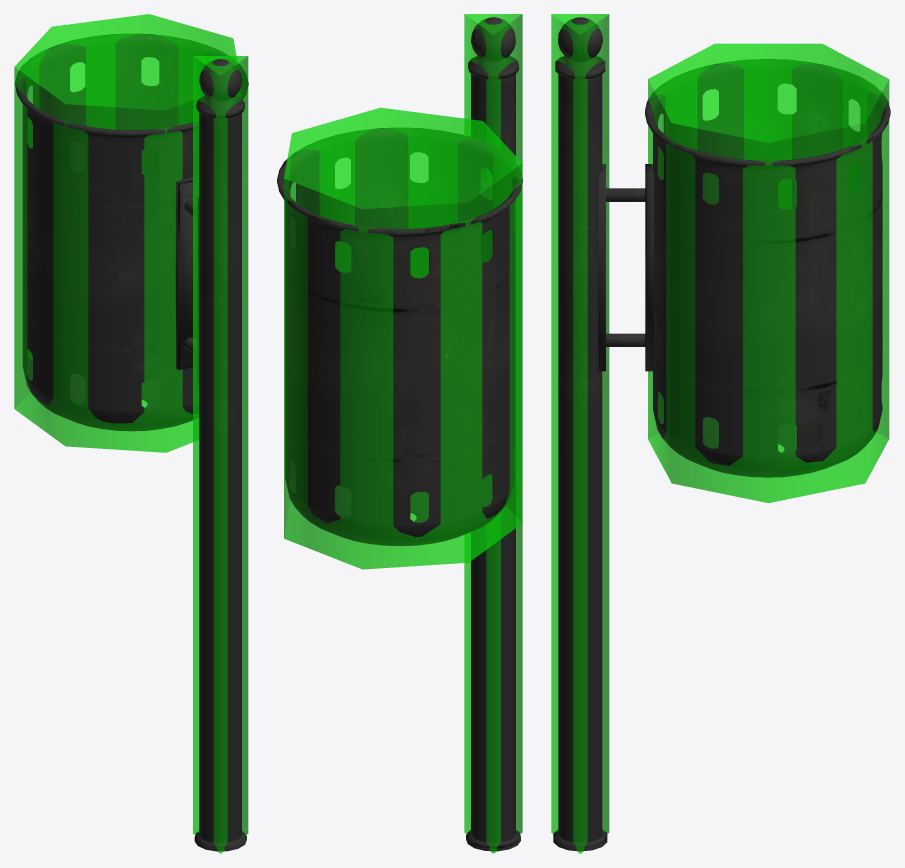
Rendered from Trashcan_A.FBX.
3 views of the same model, side by side, from view 1: azimuth 30°, elevation 25°; view 2: azimuth 150°, elevation 25°; view 3: azimuth 270°, elevation 25° (orthographic). The views are drawn at different scales.
Parts seen in each view (by area): view 1: Trashcan_A_LOD0, Trashcan_A_COL; view 2: Trashcan_A_LOD0, Trashcan_A_COL; view 3: Trashcan_A_LOD0, Trashcan_A_COL.
Part boxes in pixels (x1,y1,x2,y2): Trashcan_A_LOD0: (15,34,248,851); Trashcan_A_COL: (14,14,248,853); Trashcan_A_LOD0: (277,17,522,851); Trashcan_A_COL: (284,14,522,853); Trashcan_A_LOD0: (553,17,890,851); Trashcan_A_COL: (551,14,889,853).
Size of what is drawn, in the model's own units: 35.53 by 130 by 48.86.
Materials: 2 (1 with a texture image).
